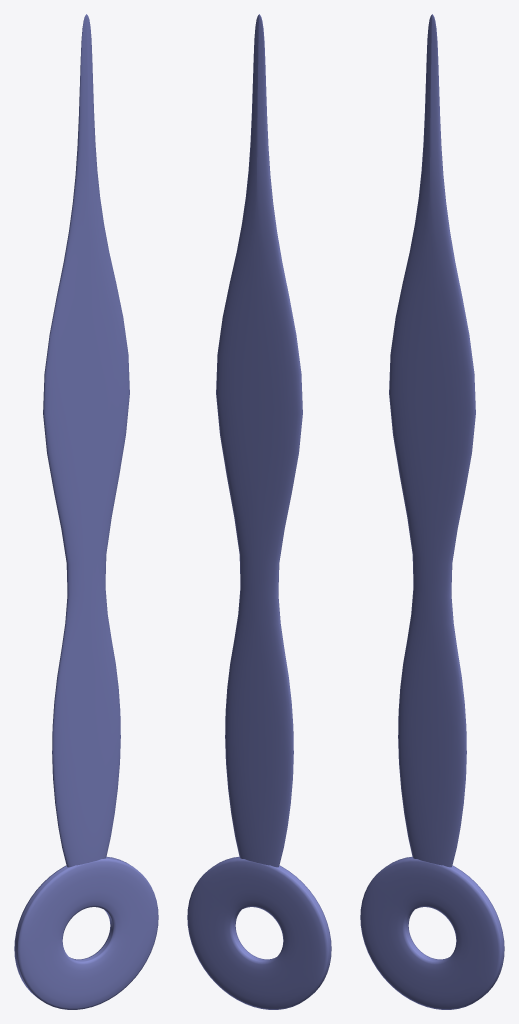
File: 小鬧鐘_minuteV3.glb
The picture shows the model from 3 angles, left to right: view 1: azimuth 30°, elevation 25°; view 2: azimuth 150°, elevation 25°; view 3: azimuth 330°, elevation 25°; orthographic projection.
Parts seen in each view (by area): view 1: minute, 管道; view 2: minute, 管道; view 3: minute, 管道.
Part boxes in pixels (left/top/right/bottom): minute: left=43, top=14, right=129, bottom=867; 管道: left=14, top=856, right=158, bottom=1009; minute: left=216, top=14, right=302, bottom=867; 管道: left=187, top=856, right=331, bottom=1009; minute: left=389, top=14, right=475, bottom=867; 管道: left=360, top=856, right=504, bottom=1009.
Size of the model in its own units: 501 by 3382 by 40.09.
